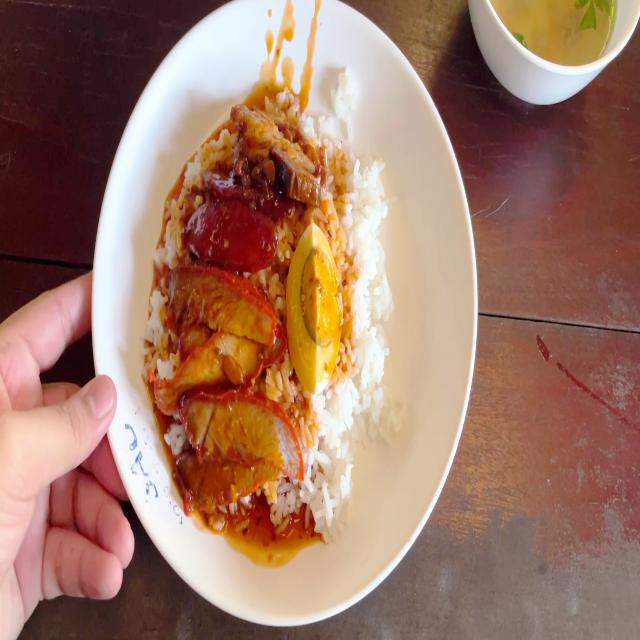boiled_egg: (291, 230, 342, 382)
chainese_sausage: (193, 170, 282, 258)
crispy_pork: (242, 110, 314, 190)
red_pork: (165, 274, 294, 494)
red_pork_and_crispy_pork: (170, 120, 379, 508)
rice: (322, 110, 384, 238), (347, 240, 387, 395), (307, 394, 356, 518)
